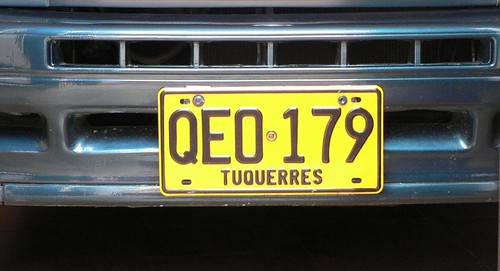placa_carro: (156, 86, 386, 194)
